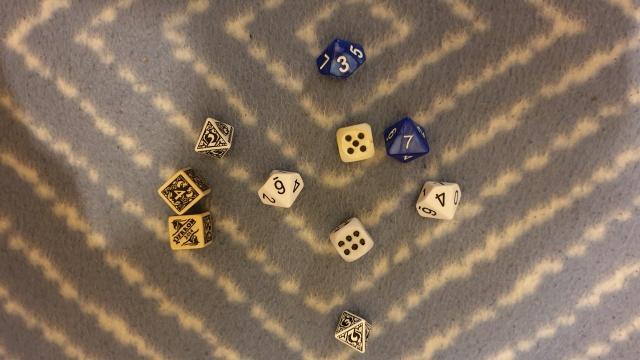d10-3: (312, 36, 370, 82)
d10-4: (411, 175, 467, 224)
d10-6: (252, 161, 311, 214)
d10-7: (379, 114, 434, 166)
d6-5: (331, 120, 376, 163)
d6-6: (325, 212, 379, 269)
d6p-1: (166, 213, 214, 252)
d6p-4: (155, 163, 208, 218)
d8p-2: (328, 303, 377, 356), (189, 113, 237, 164)
